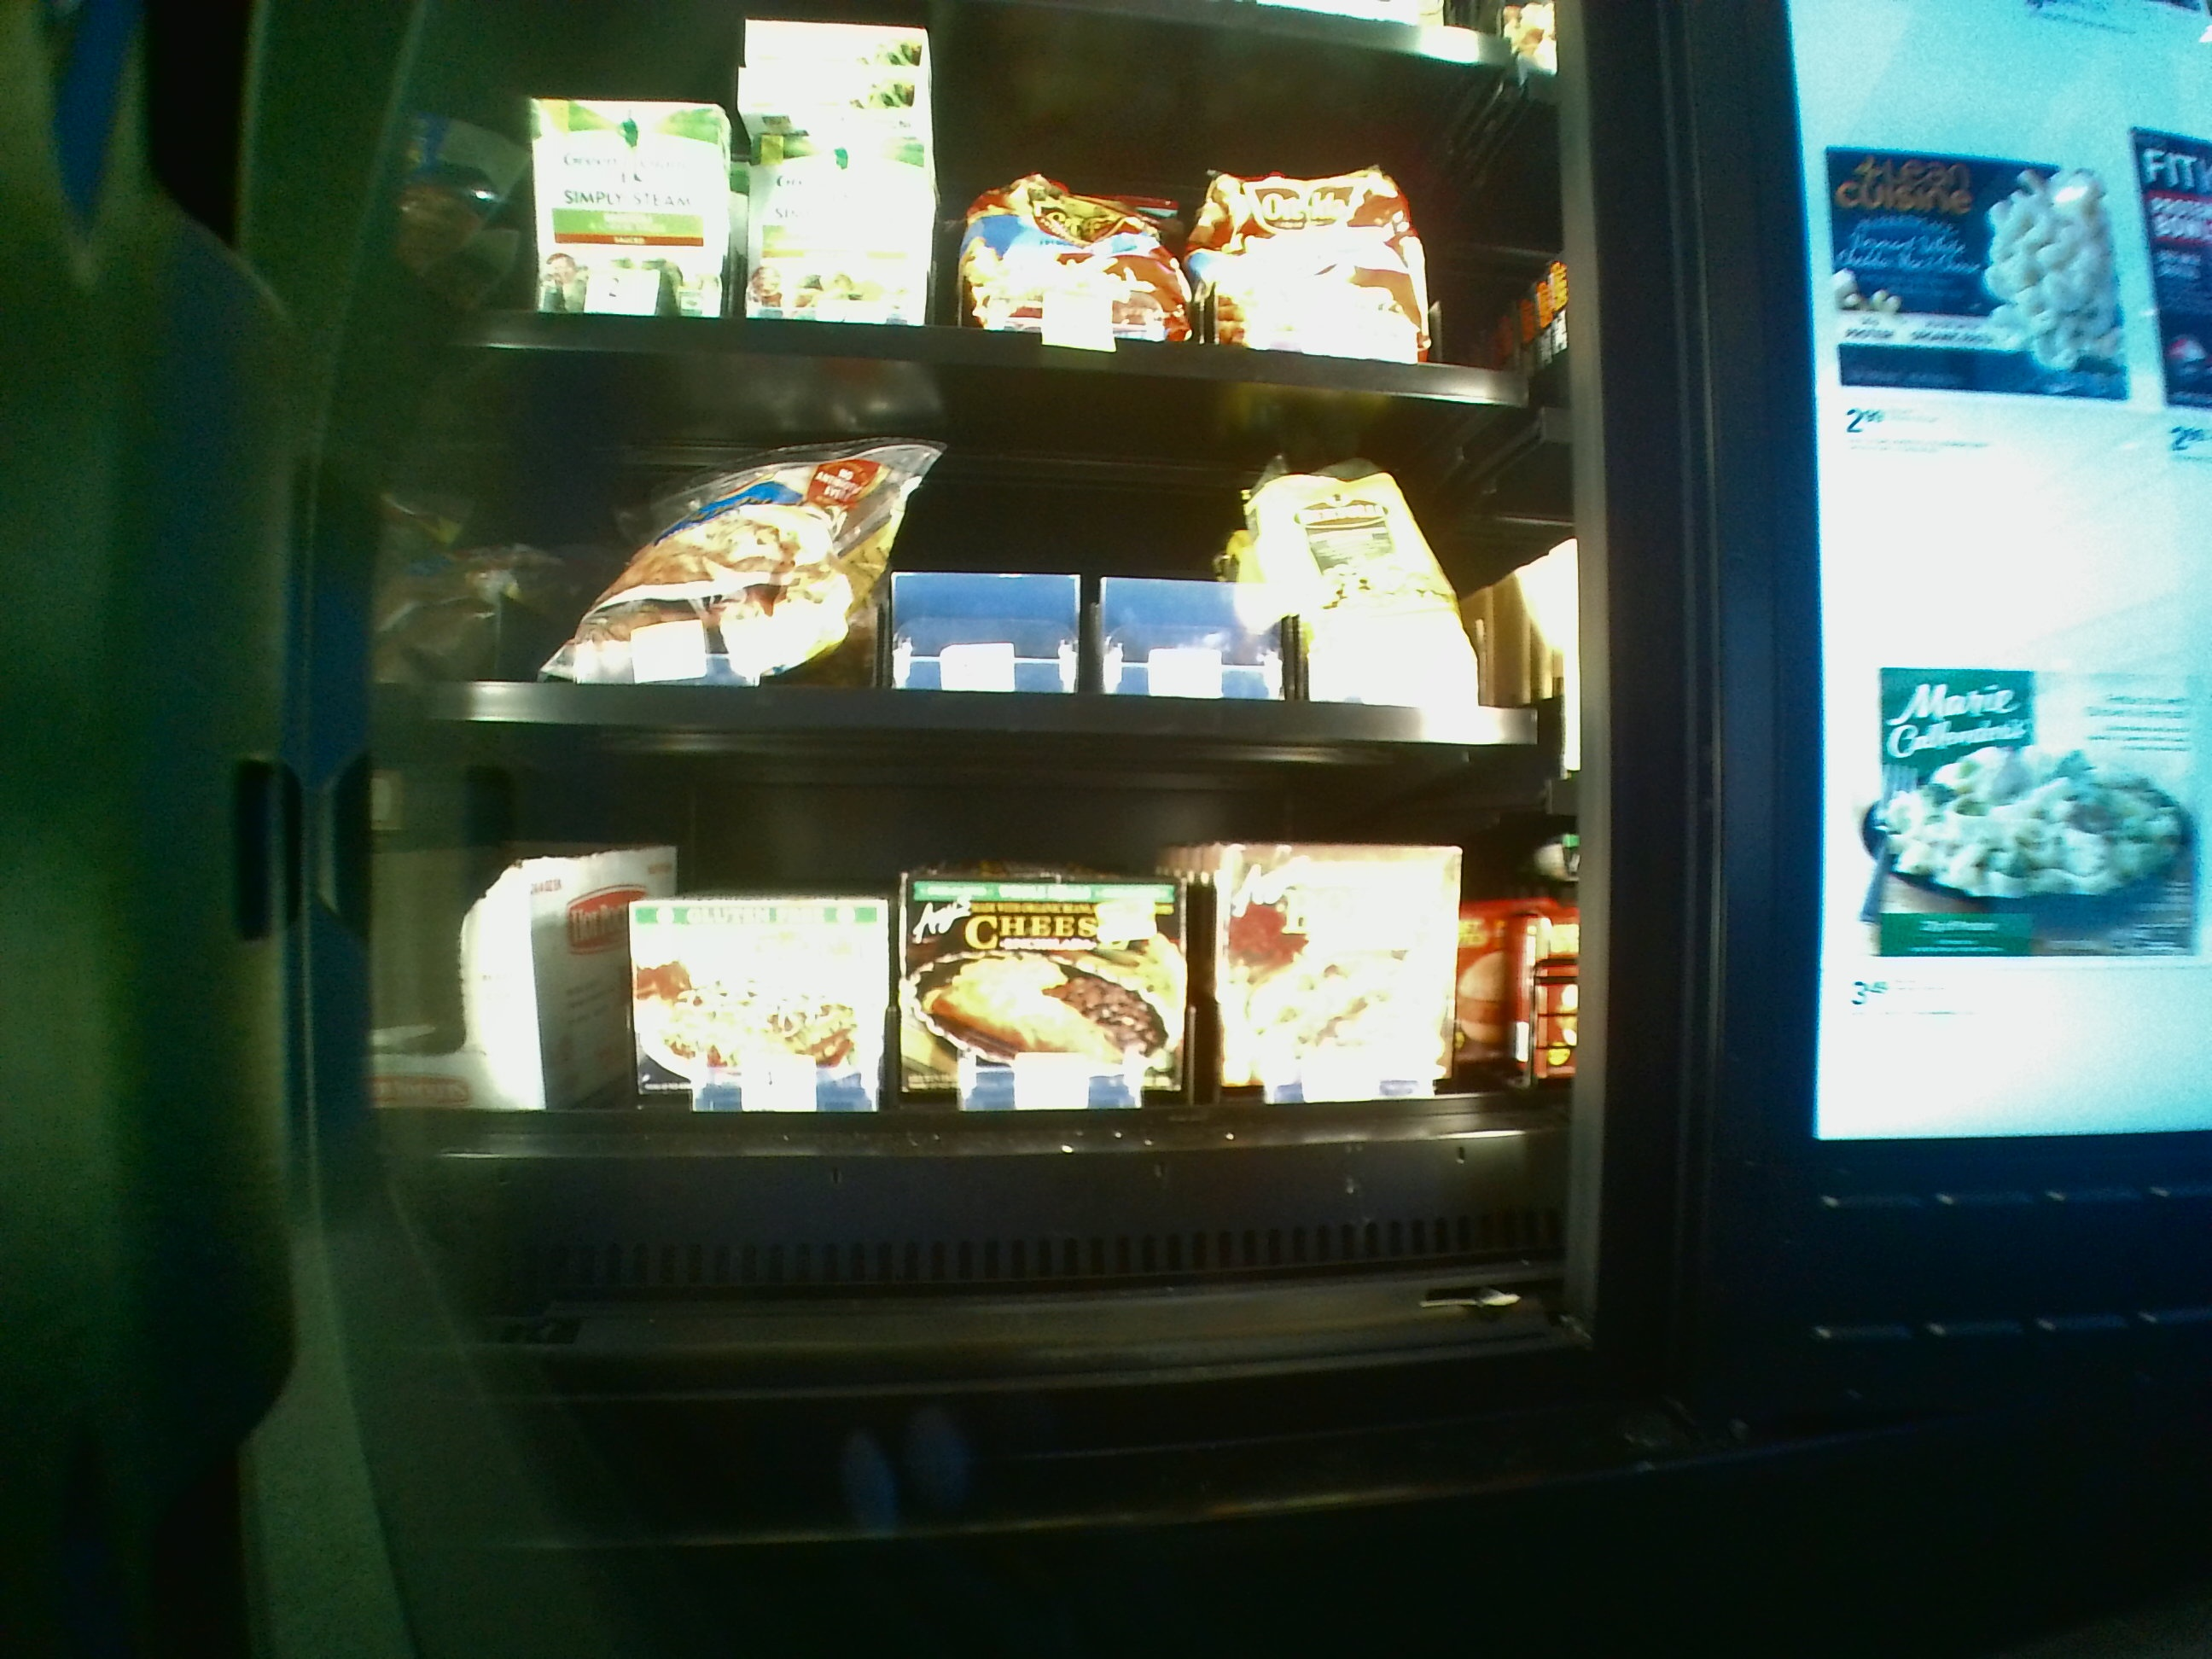shelf: (383, 758, 1576, 1328), (383, 350, 1561, 742)
